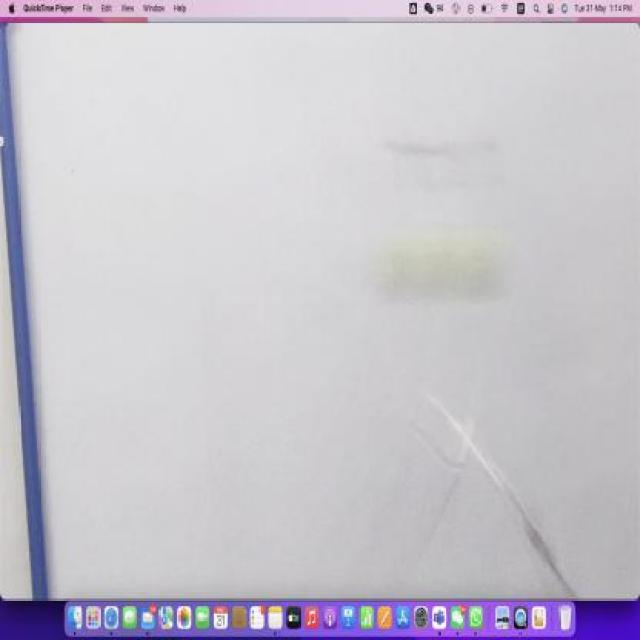baseball: (373, 228, 519, 303)
